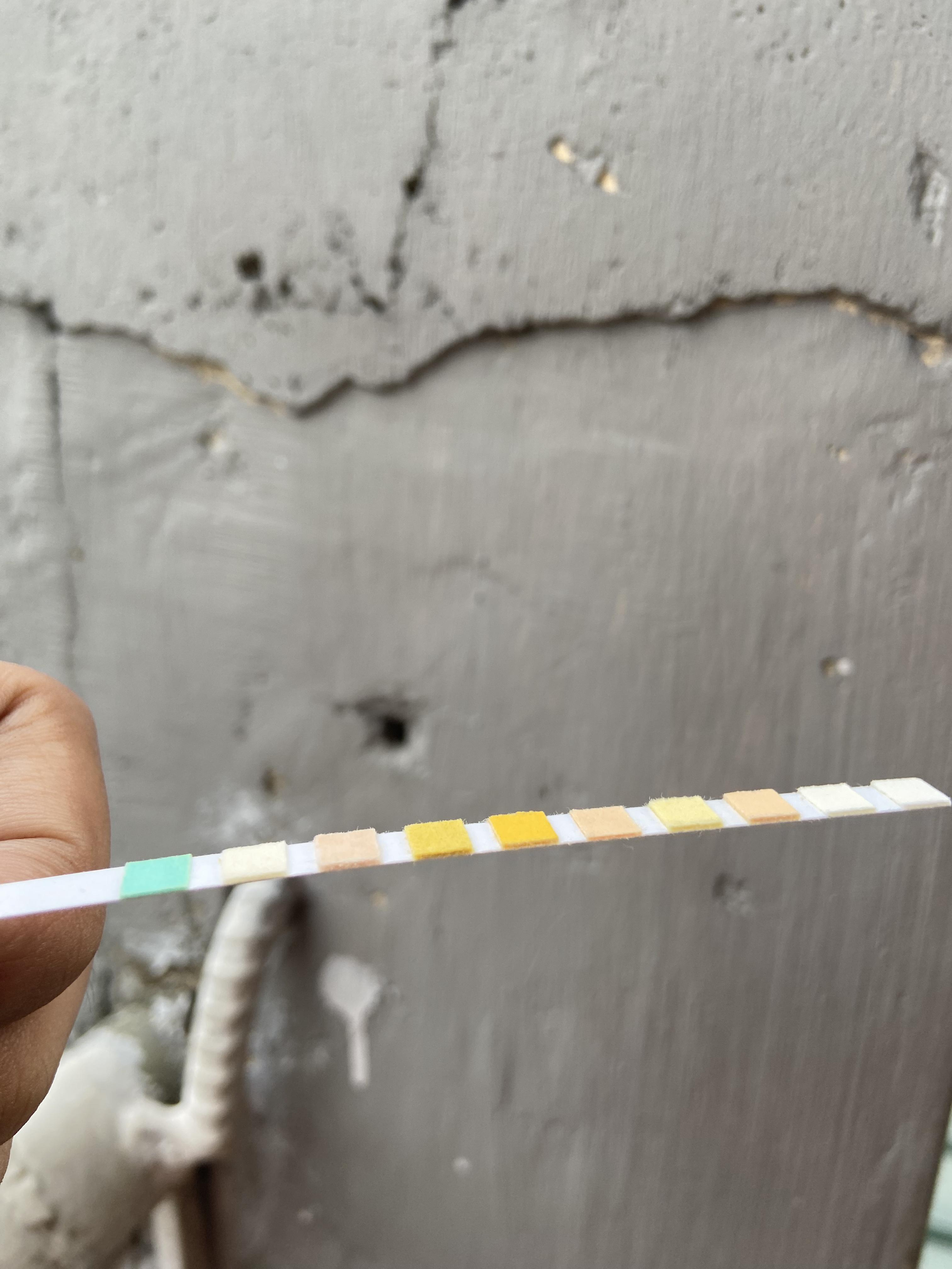Bilirubin: (223, 852, 284, 871)
Blood: (494, 817, 549, 840)
Glucose: (126, 865, 186, 888)
Ketone: (317, 836, 378, 858)
Leukocytes: (902, 778, 918, 804)
Nitrite: (829, 785, 845, 813)
Protein: (672, 796, 698, 827)
SpGravity: (408, 826, 465, 847)
Urobilinogen: (751, 790, 771, 817)
pH: (588, 811, 626, 835)
strip: (1, 779, 951, 916)
